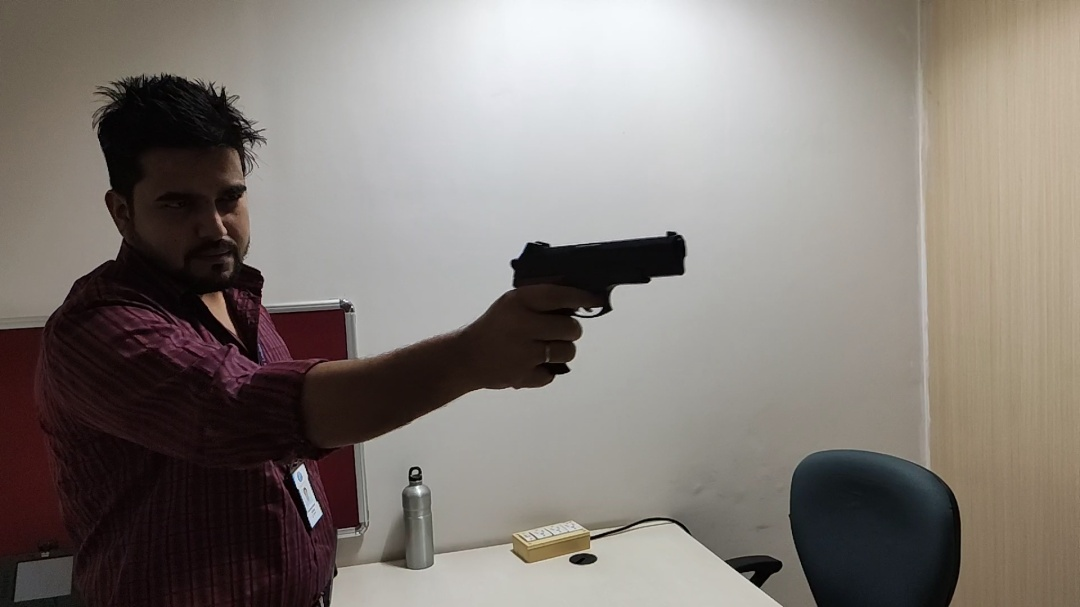gun: (509, 227, 689, 320)
